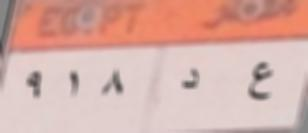1: (59, 67, 87, 104)
8: (100, 65, 129, 105)
9: (18, 65, 52, 112)
ain: (245, 59, 277, 114)
daal: (175, 61, 205, 100)
